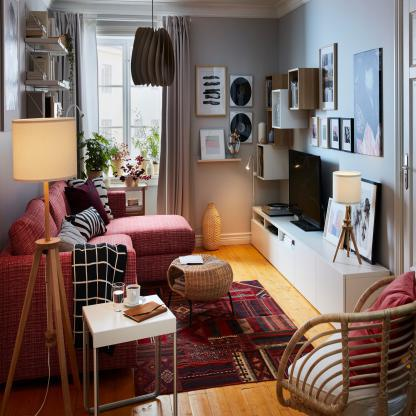bantal: (71, 208, 108, 238)
gelas: (111, 283, 126, 310), (126, 285, 142, 303)
kursi: (276, 273, 416, 415)
lampu: (9, 118, 81, 186), (327, 169, 367, 266)
meja: (75, 300, 184, 416), (162, 256, 239, 339)
sova: (7, 182, 193, 359)
tv: (285, 148, 327, 224)
